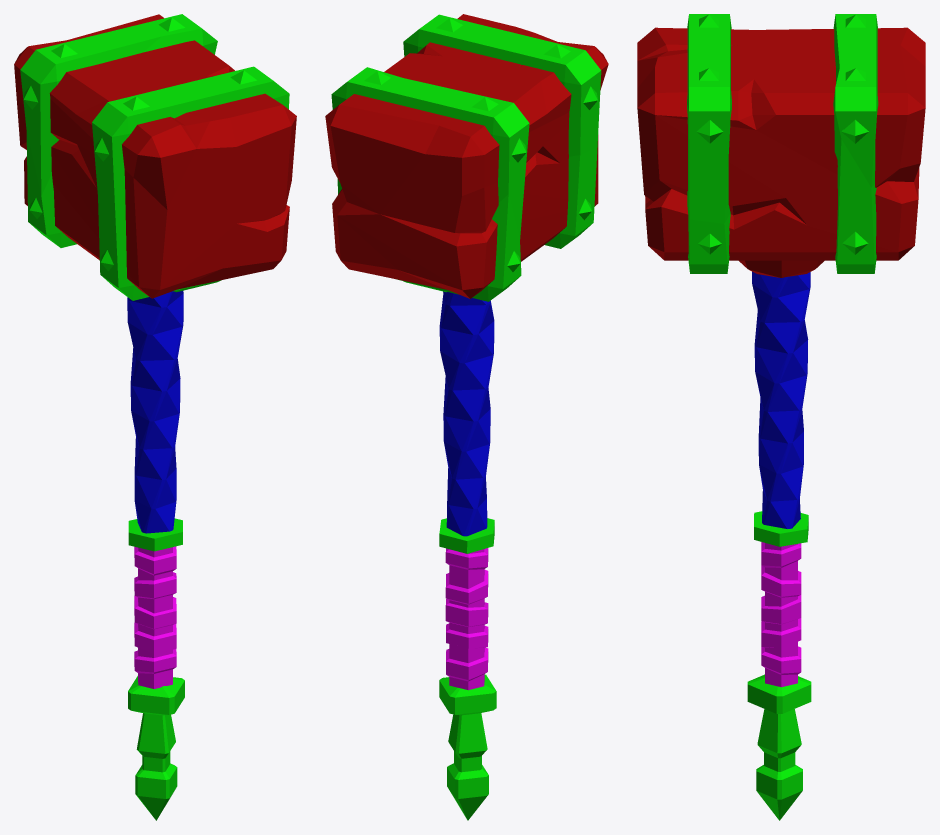
File: Greathammer_Rare_Magistone.fbx
3 renders of one model, left to right at view 1: azimuth 30°, elevation 25°; view 2: azimuth 150°, elevation 25°; view 3: azimuth 270°, elevation 25°, orthographic. The views are drawn at different scales.
Parts seen in each view (by area): view 1: SM_Wep_Hammer_Large_Stone_01; view 2: SM_Wep_Hammer_Large_Stone_01; view 3: SM_Wep_Hammer_Large_Stone_01.
Boxes of the visible parts, <box> form: SM_Wep_Hammer_Large_Stone_01: <box>14,14,296,820</box>; SM_Wep_Hammer_Large_Stone_01: <box>325,14,608,820</box>; SM_Wep_Hammer_Large_Stone_01: <box>637,14,925,820</box>.
Size of the model in its own units: 0.4356 by 1.66 by 0.5559.
